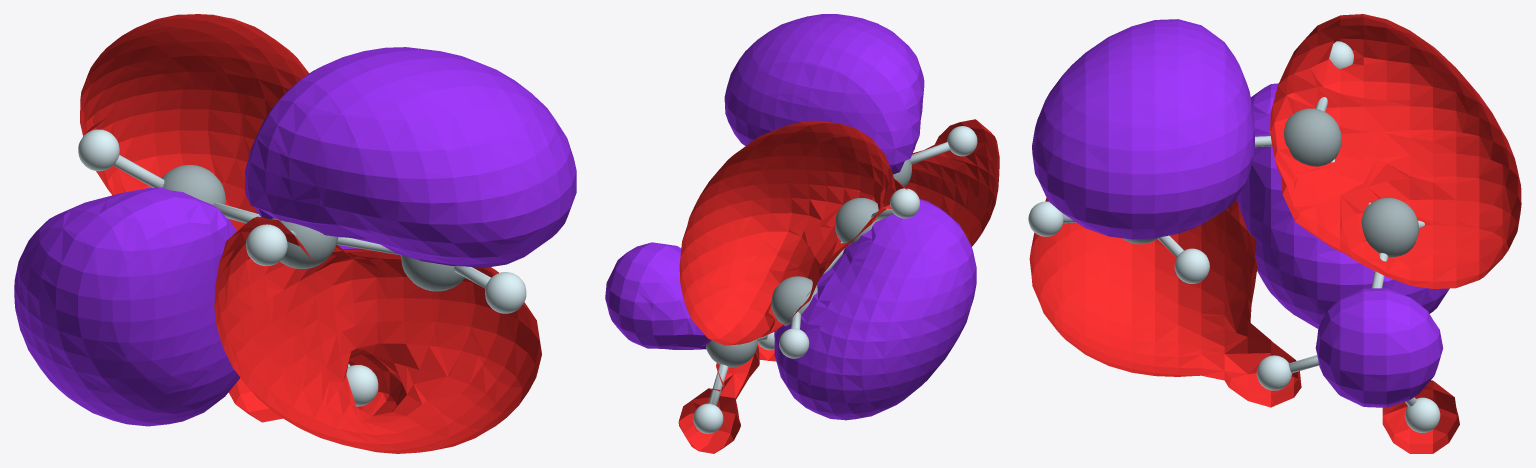
3 views of the same model, side by side, from view 1: azimuth 30°, elevation 25°; view 2: azimuth 150°, elevation 25°; view 3: azimuth 270°, elevation 25° (orthographic). The views are drawn at different scales.
Parts seen in each view (by area): view 1: Renderer Node; view 2: Renderer Node; view 3: Renderer Node.
Boxes of the visible parts, x1,y1,x2,y2 form: Renderer Node: (14, 14, 576, 453); Renderer Node: (605, 14, 999, 453); Renderer Node: (1028, 14, 1521, 453).
Size of the model in its own units: 4.95 by 5.02 by 5.56.
